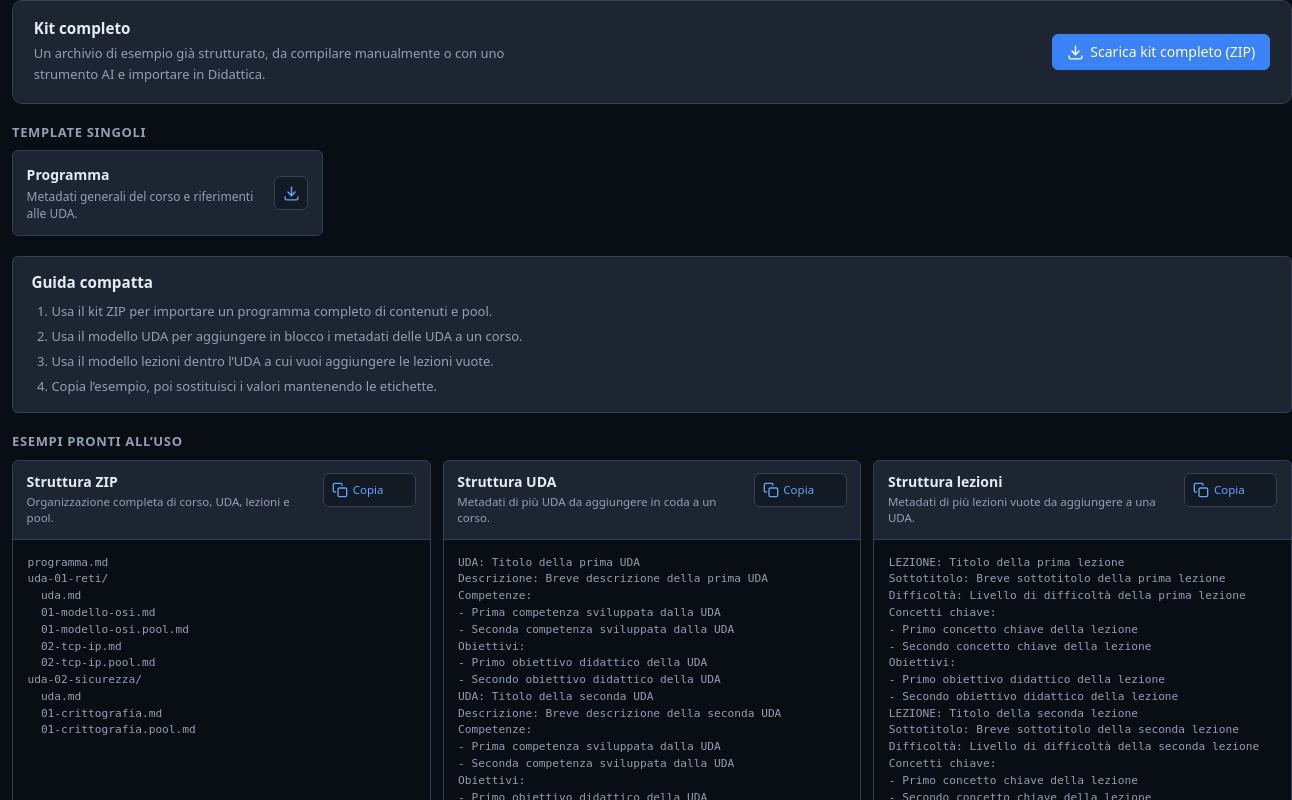
Test: l’esito vive nel pulsante della card interessata › successo UDA: solo quel pulsante diventa «Copiato»
What coordinates should you click on to do the following:
click the button "Copia" in the row of "Struttura UDA"
I would click on:
 (800, 490)
Its box is [754,473,847,507].
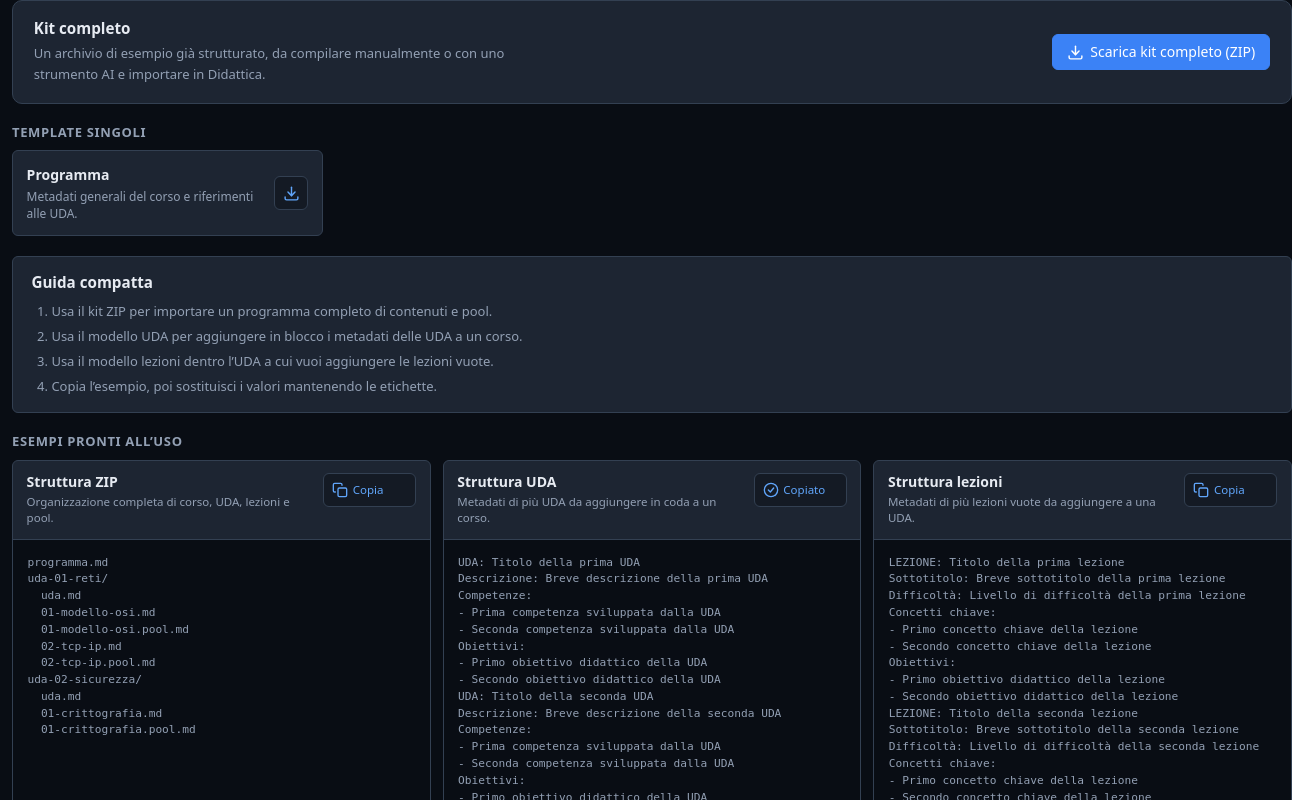
Expected: the text "Copia" in the row of "Struttura ZIP" is shown, [353,482,384,497]
Now the text "Copiato" is shown, box [783,482,825,497]
